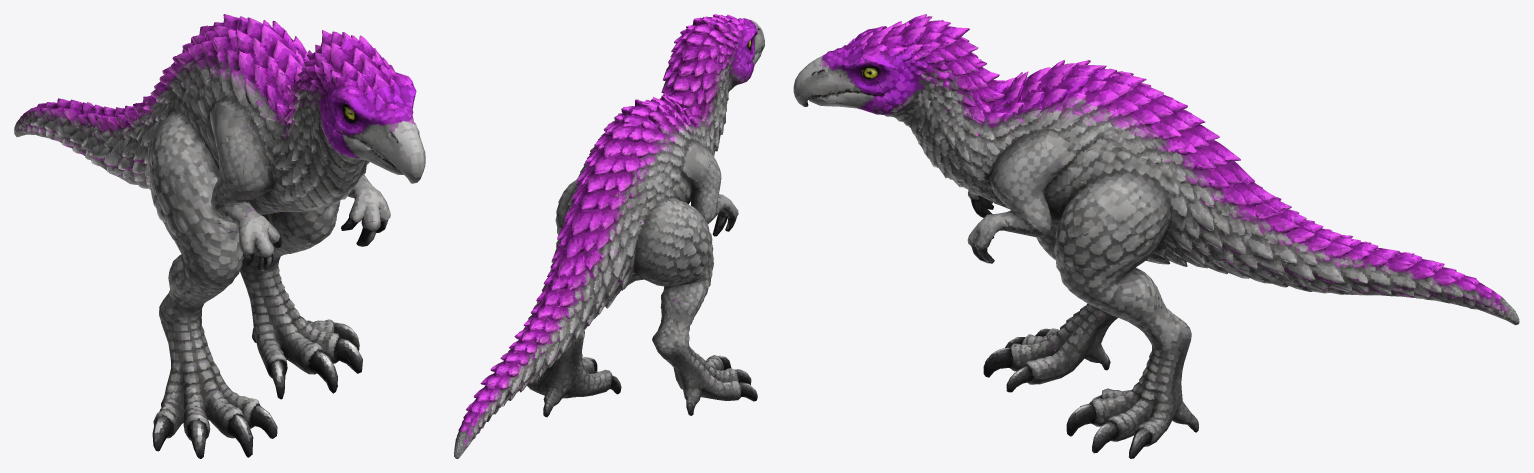
The model's file is beaked.glb.
3 renders of one model, left to right at view 1: azimuth 30°, elevation 25°; view 2: azimuth 150°, elevation 25°; view 3: azimuth 270°, elevation 25°, orthographic. The views are drawn at different scales.
Parts seen in each view (by area): view 1: Mesh_0; view 2: Mesh_0; view 3: Mesh_0.
Boxes of the visible parts, x1=… form: Mesh_0: x1=14, y1=14, x2=425, y2=458; Mesh_0: x1=454, y1=14, x2=764, y2=458; Mesh_0: x1=793, y1=14, x2=1519, y2=458.
Size of the model in its own units: 0.7049 by 1.14 by 1.9.
Materials: 1 (1 with a texture image).
